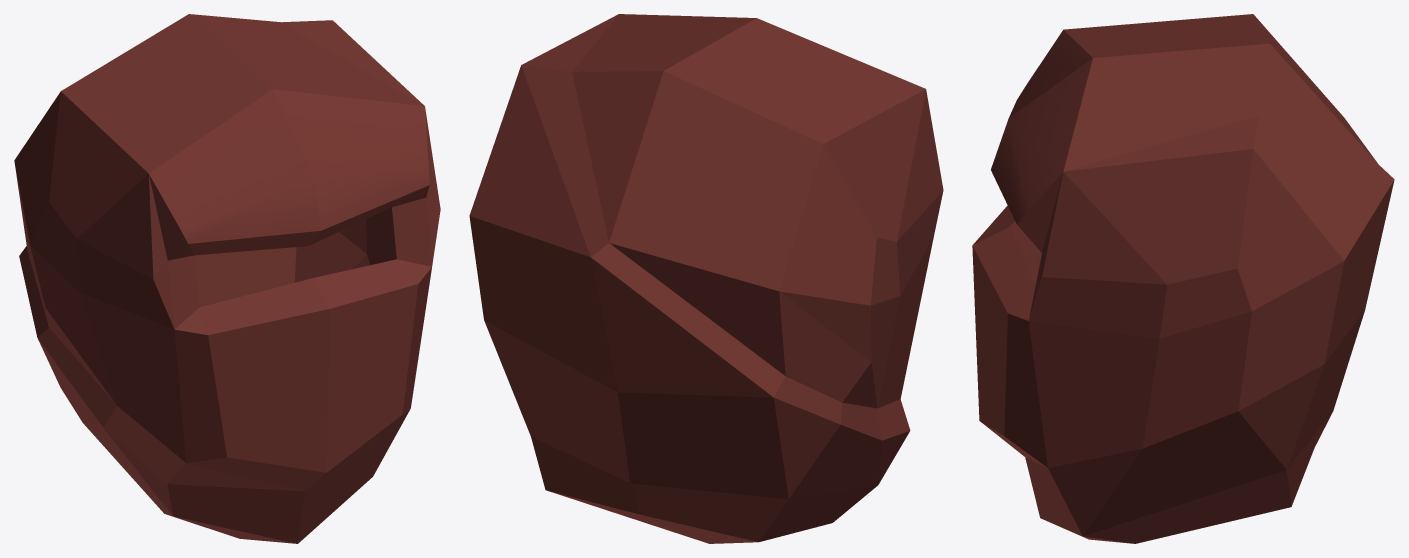
Rendered from SM_Chr_Attach_Insurgent_Headpiece_03.fbx.
3 renders of one model, left to right at view 1: azimuth 30°, elevation 25°; view 2: azimuth 150°, elevation 25°; view 3: azimuth 270°, elevation 25°, orthographic. The views are drawn at different scales.
Visible parts, largest first — view 1: SM_Chr_Attach_Insurgent_Headpiece_03; view 2: SM_Chr_Attach_Insurgent_Headpiece_03; view 3: SM_Chr_Attach_Insurgent_Headpiece_03.
Boxes of the visible parts, box(x1,y1,x2,y2) form: SM_Chr_Attach_Insurgent_Headpiece_03: box(14, 14, 440, 543); SM_Chr_Attach_Insurgent_Headpiece_03: box(469, 14, 943, 543); SM_Chr_Attach_Insurgent_Headpiece_03: box(972, 14, 1394, 543).
Bounding box in the file's own units: 28.87 × 36.99 × 29.47.
